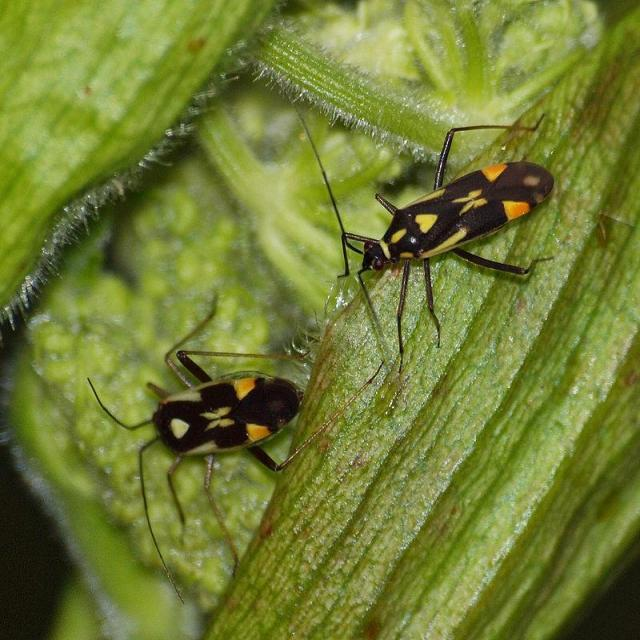Miridae-Adult-: (299, 105, 568, 330), (86, 292, 344, 515)
